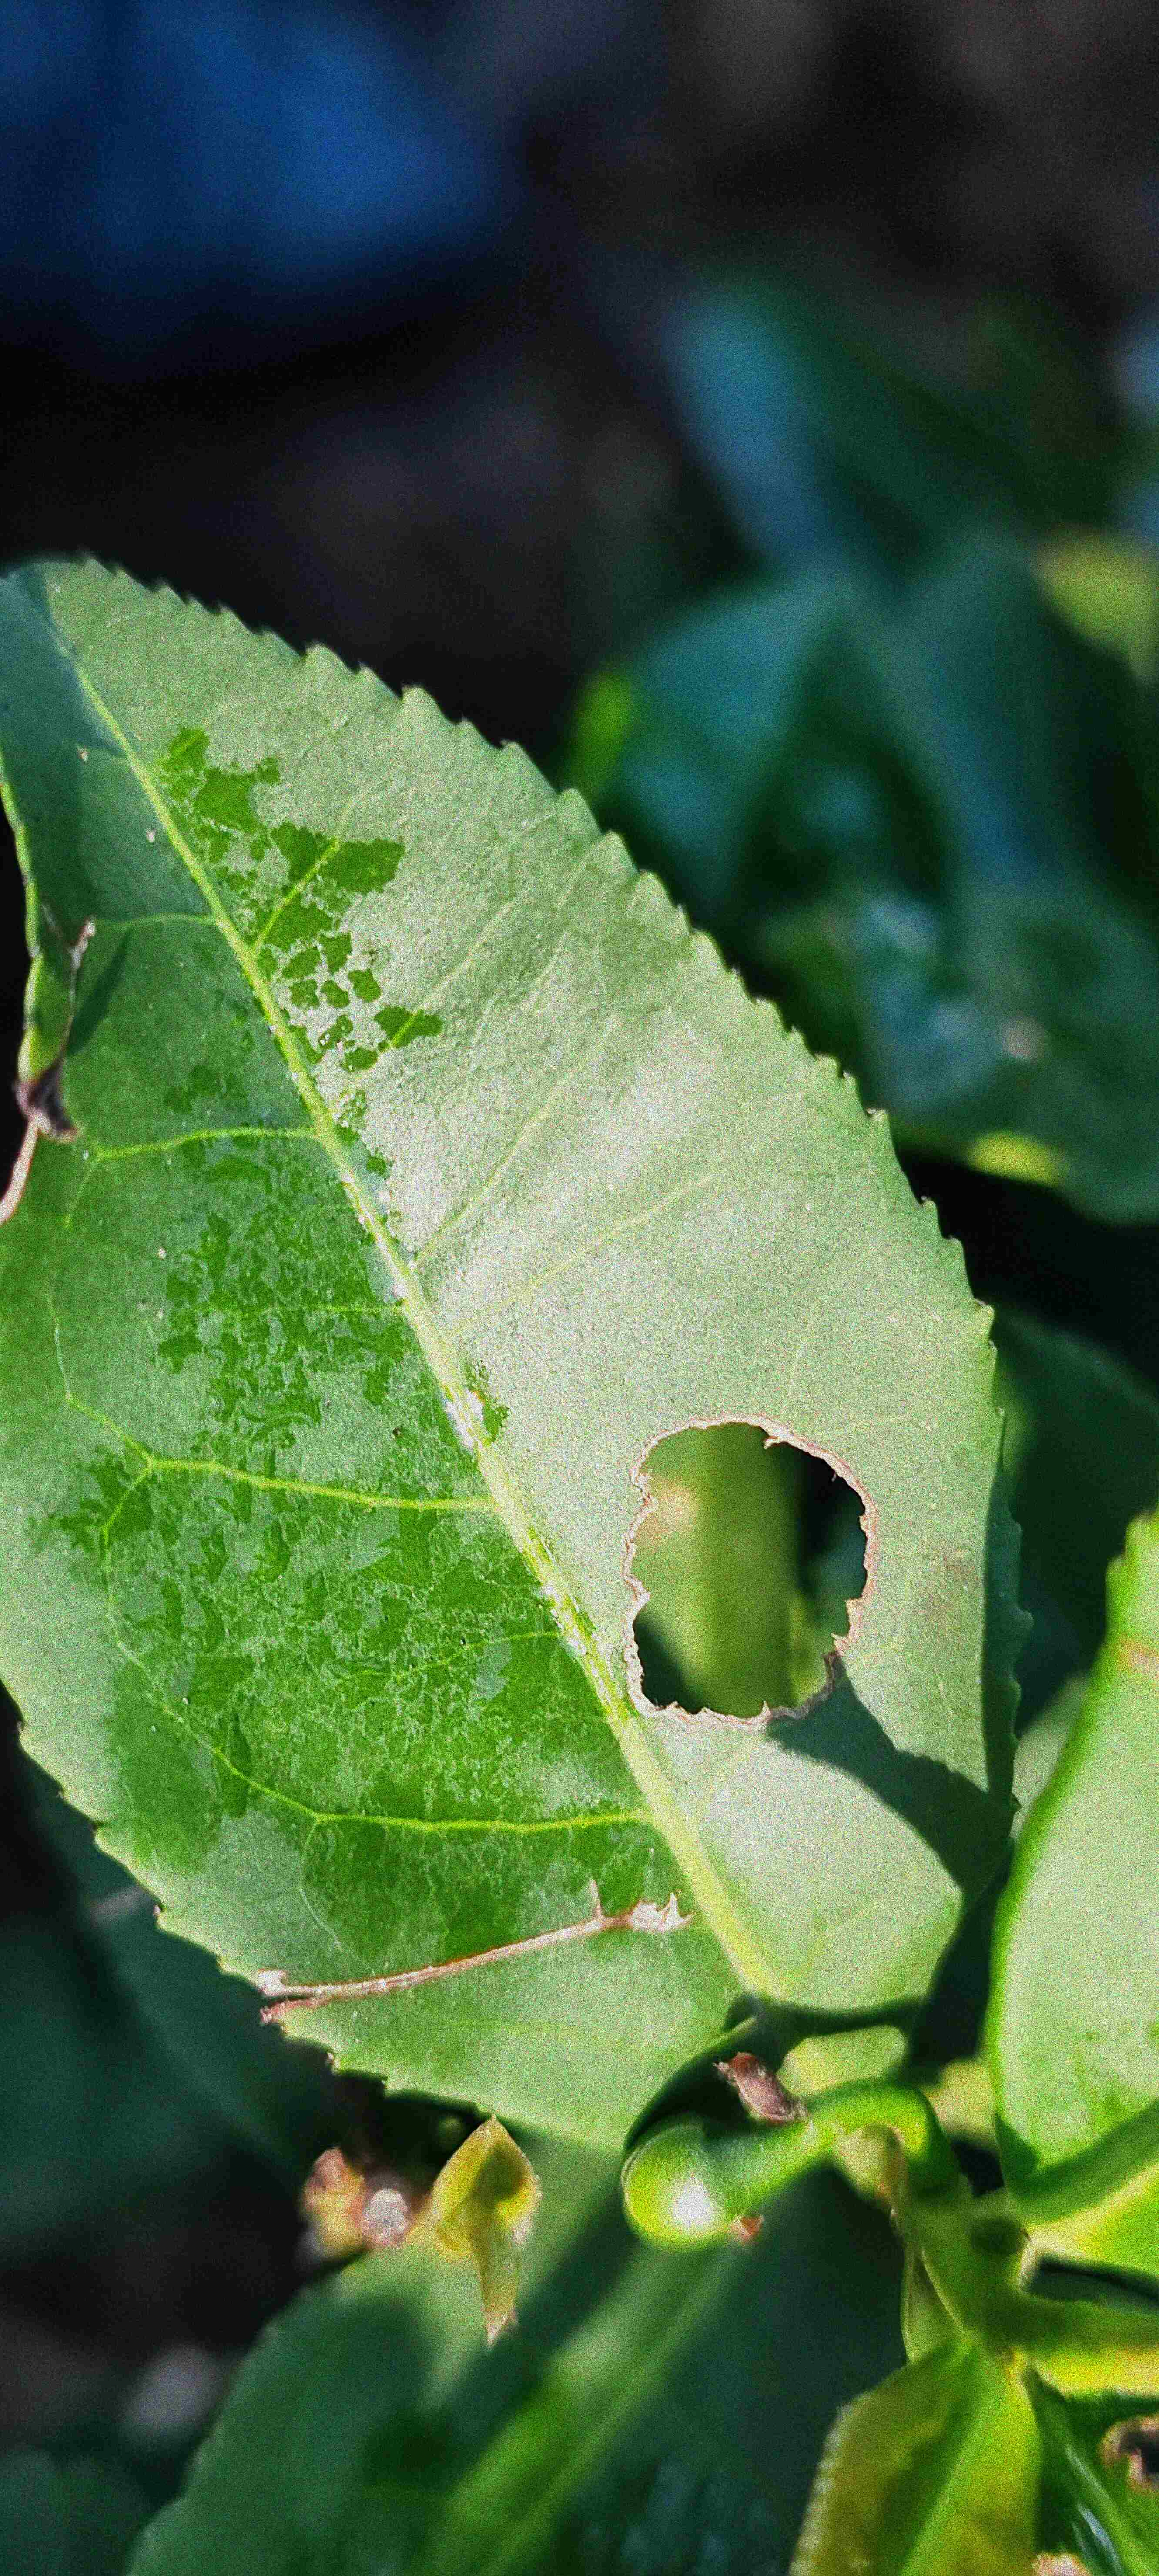chihuo_high: (5, 554, 1036, 2154)
